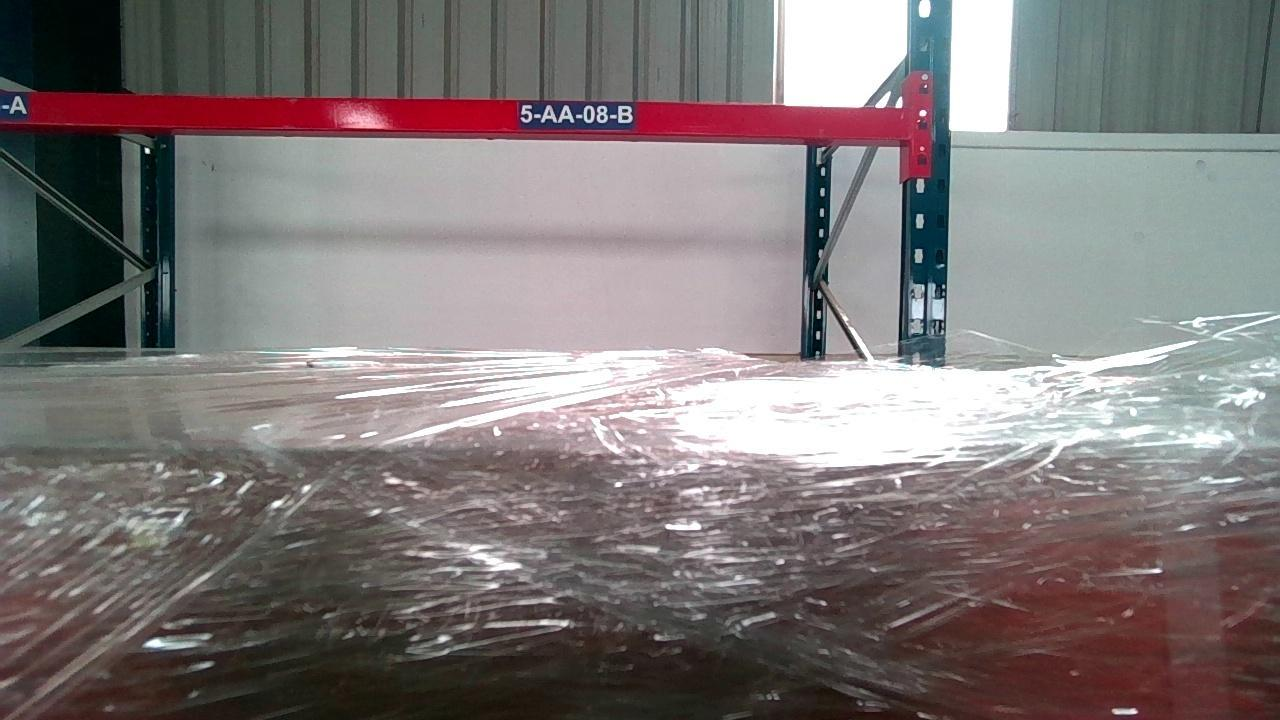h_rack: (0, 91, 905, 145)
